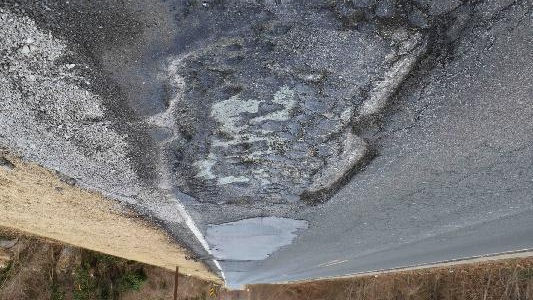pothole: (162, 6, 451, 211)
